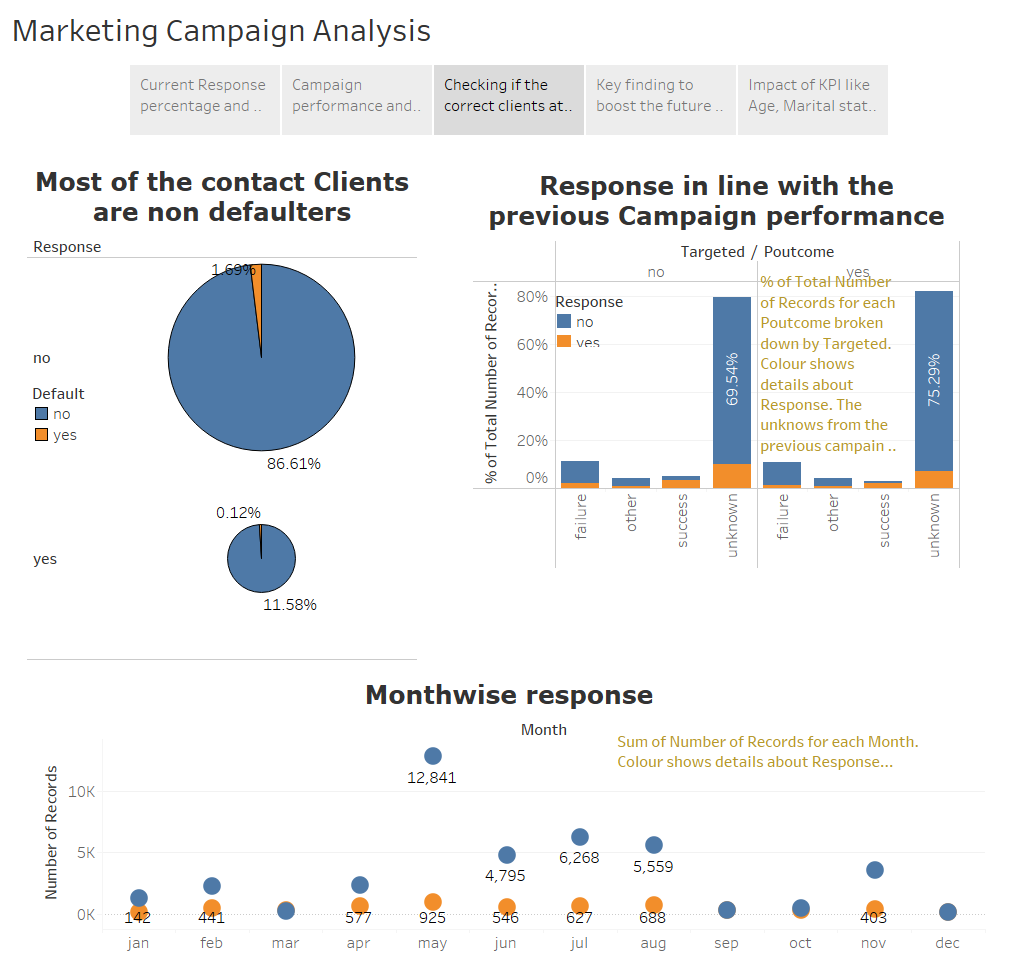

Layout of this report page (visuals, bound fields, positions):
{"tool":"tableau","page":{"name":"Dashboard 3","canvas":[1000,800],"ordinal":2},"visuals":[{"type":"worksheet","title":"Most of the contact Clients are non defaulters","mark":"Pie","rows":["response"],"box":[19,9,469,554]},{"type":"worksheet","title":"Response in line with the previous Campaign performance","mark":"Automatic","cols":["targeted","poutcome"],"box":[465,13,487,405]},{"type":"text","box":[749,115,150,199]},{"type":"legend","title":"Response in line with the previous Campaign performance","param":"[federated.16b4l9v19oirxa11chxgu1q5xi05].[none:response:nk]","box":[546,138,140,58]},{"type":"legend","title":"Most of the contact Clients are non defaulters","param":"[federated.16b4l9v19oirxa11chxgu1q5xi05].[none:default:nk]","box":[23,230,140,126]},{"type":"worksheet","title":"Monthwise response","mark":"Shape","rows":["Number of Records"],"cols":["month"],"box":[25,522,952,281]},{"type":"text","box":[606,571,341,59]}]}

Visuals, with their boxes on the page's 1000x800 design canvas (x1, y1, x2, y2). These are canvas units, not pixel positions in the 1016x964 screenshot, which may show the page scaled, cropped or inside an application window:
"Most of the contact Clients are non defaulters" worksheet (Pie marks): bbox=[19, 9, 488, 563]
"Response in line with the previous Campaign performance" worksheet: bbox=[465, 13, 952, 418]
text: bbox=[749, 115, 899, 314]
"Response in line with the previous Campaign performance" legend: bbox=[546, 138, 686, 196]
"Most of the contact Clients are non defaulters" legend: bbox=[23, 230, 163, 356]
"Monthwise response" worksheet (Shape marks): bbox=[25, 522, 977, 803]
text: bbox=[606, 571, 947, 630]
